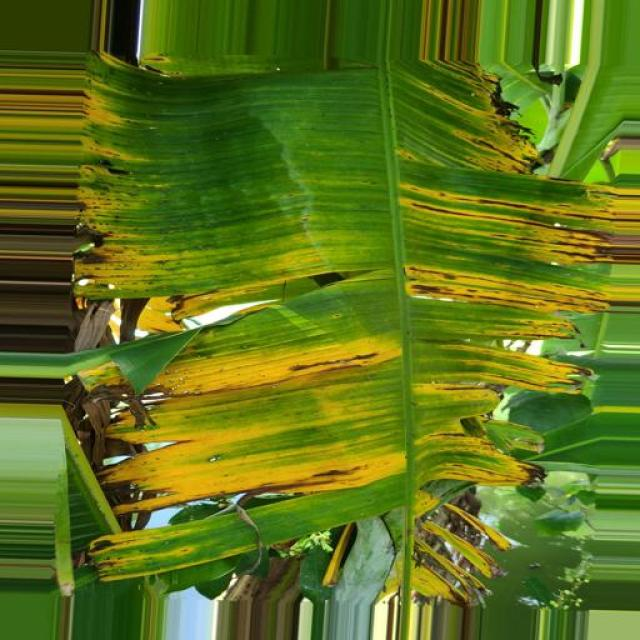Early_rust: (0, 33, 638, 598)
